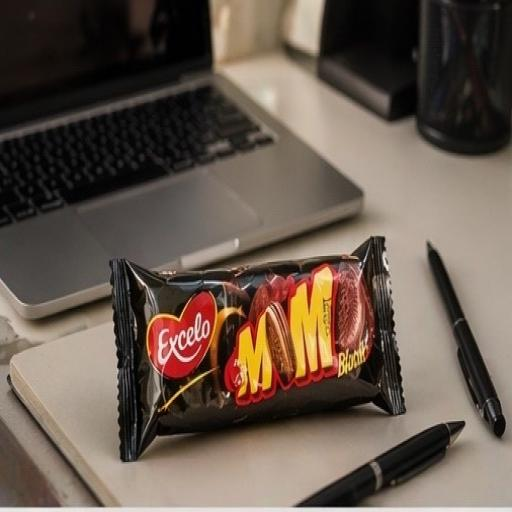MOMO: (82, 184, 468, 492)
